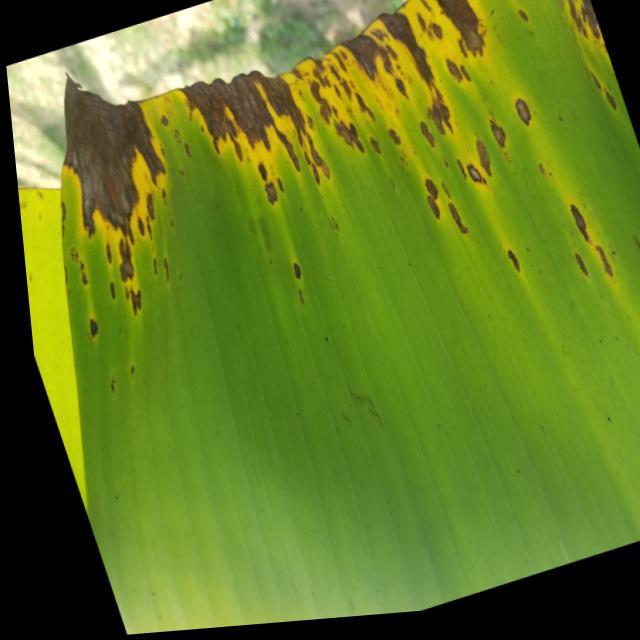Early_rust: (2, 16, 640, 389)
